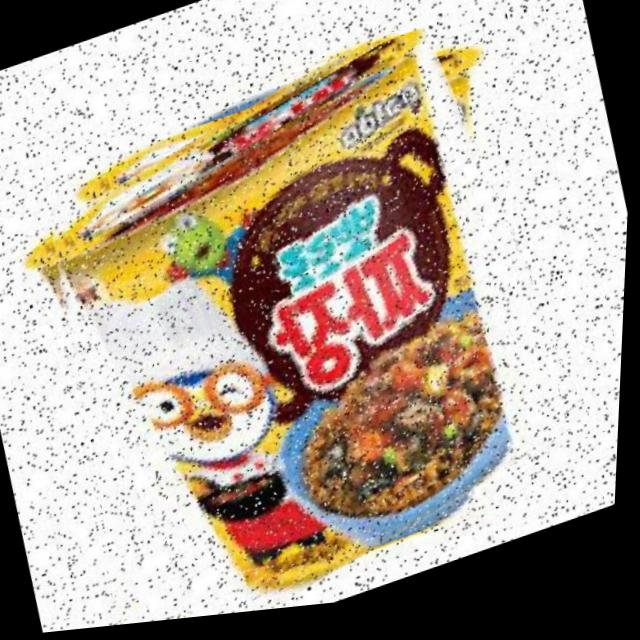Miscellaneous: (2, 7, 603, 638)
